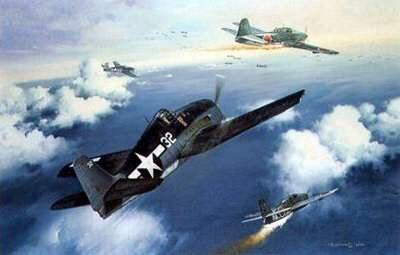airplane: (49, 84, 309, 213), (228, 15, 341, 57), (244, 184, 338, 228)
